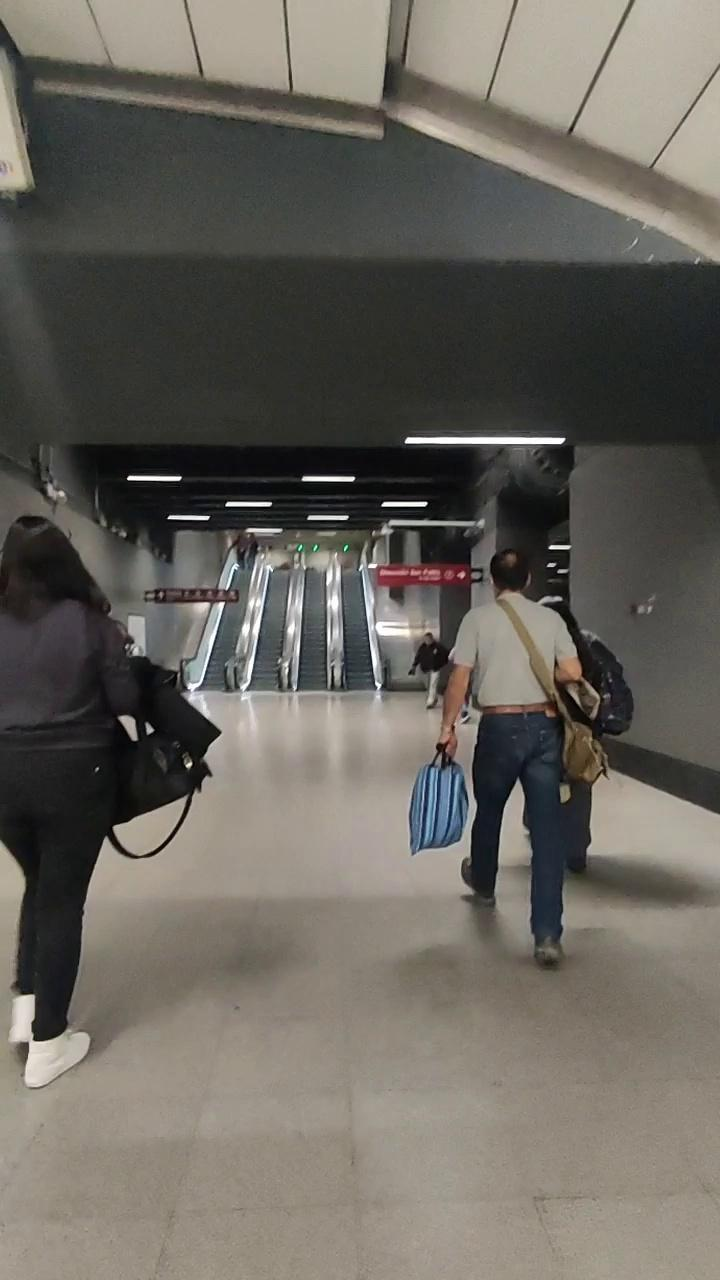right arrow: (457, 570, 466, 580)
up arrow: (158, 591, 165, 600)
